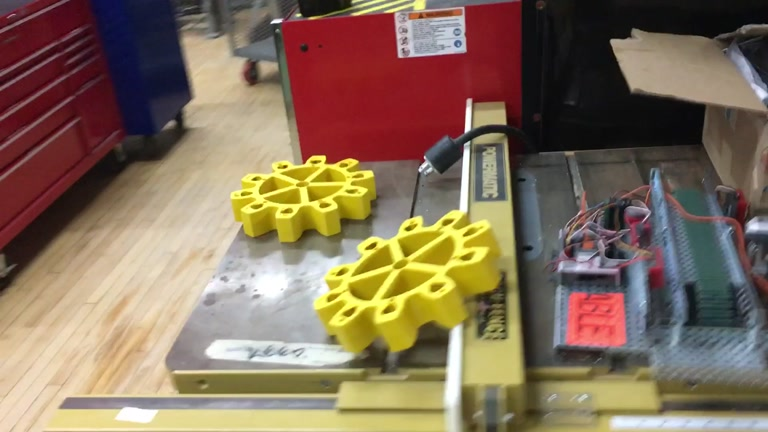gear: (311, 209, 502, 355), (229, 152, 376, 244)
